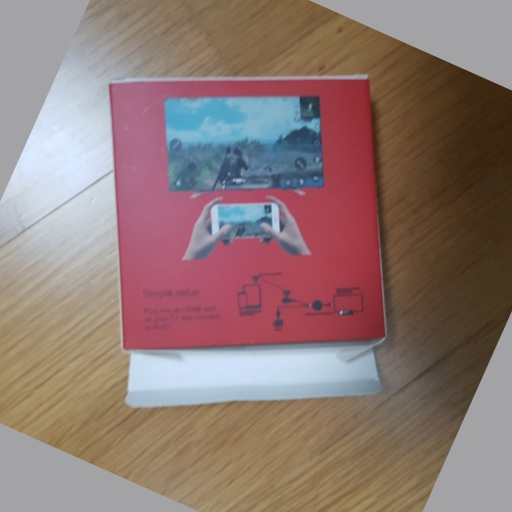Paper_0: (102, 73, 403, 415)
